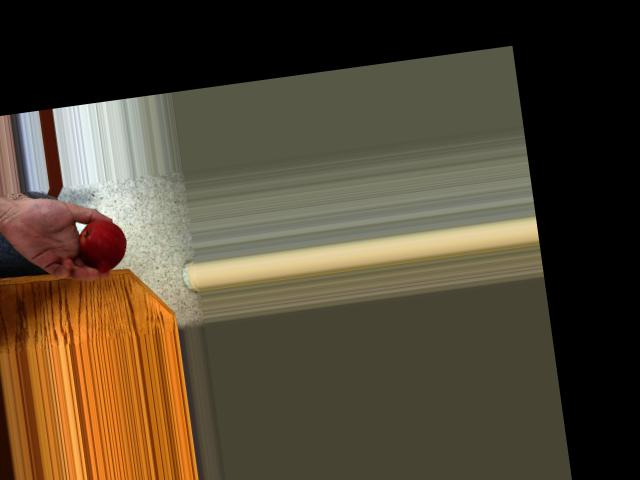apple: (75, 214, 131, 276)
